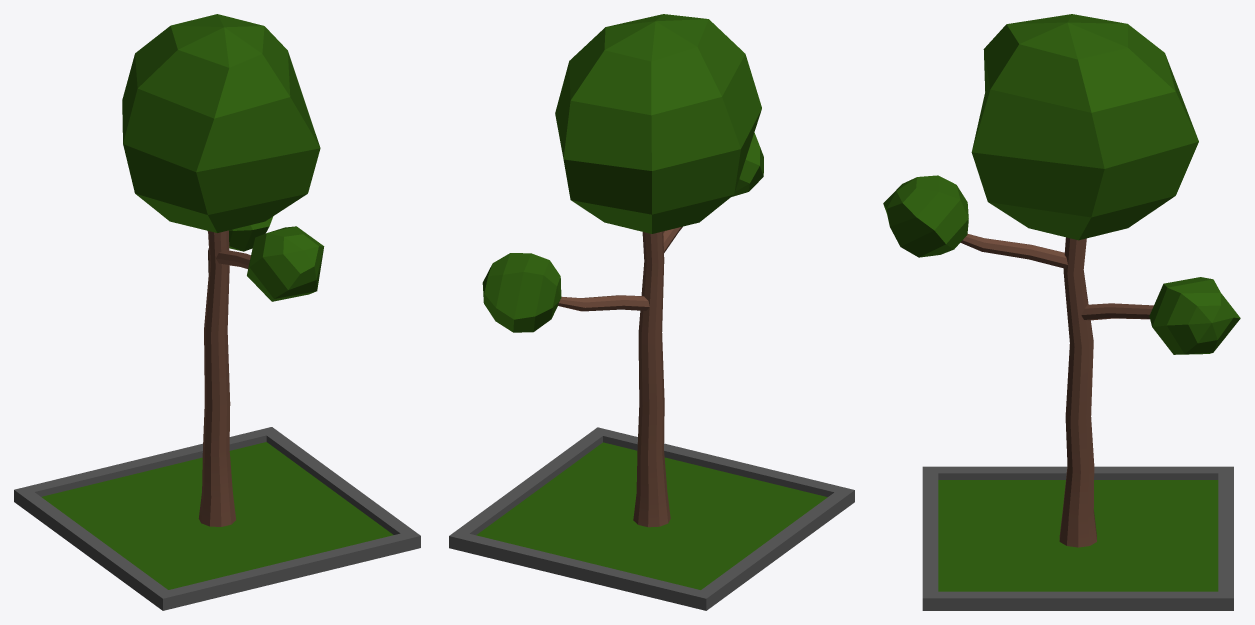
The model's file is Boom1.fbx.
3 views of the same model, side by side, from view 1: azimuth 30°, elevation 25°; view 2: azimuth 150°, elevation 25°; view 3: azimuth 270°, elevation 25° (orthographic). The views are drawn at different scales.
Parts seen in each view (by area): view 1: pCylinder4; view 2: pCylinder4; view 3: pCylinder4.
Boxes of the visible parts, x1=… form: pCylinder4: x1=14, y1=14, x2=420, y2=610; pCylinder4: x1=449, y1=14, x2=854, y2=610; pCylinder4: x1=883, y1=14, x2=1240, y2=610.
Size of the model in its own units: 22.11 by 41.03 by 25.41.
